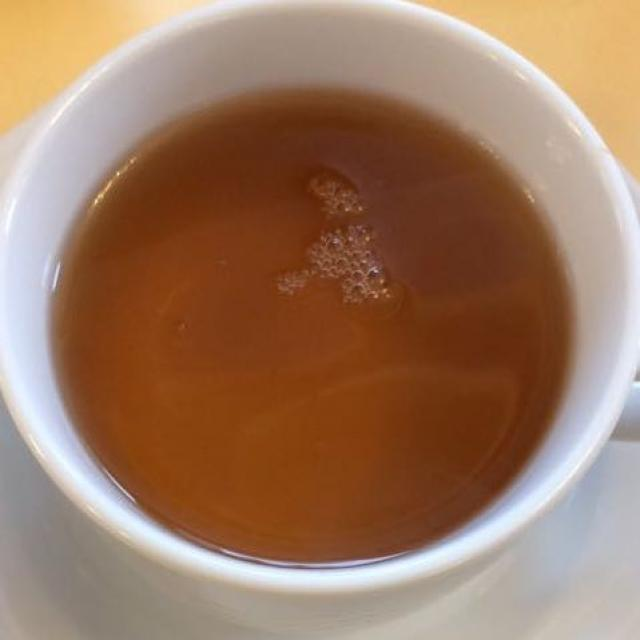tea: (59, 96, 566, 551)
